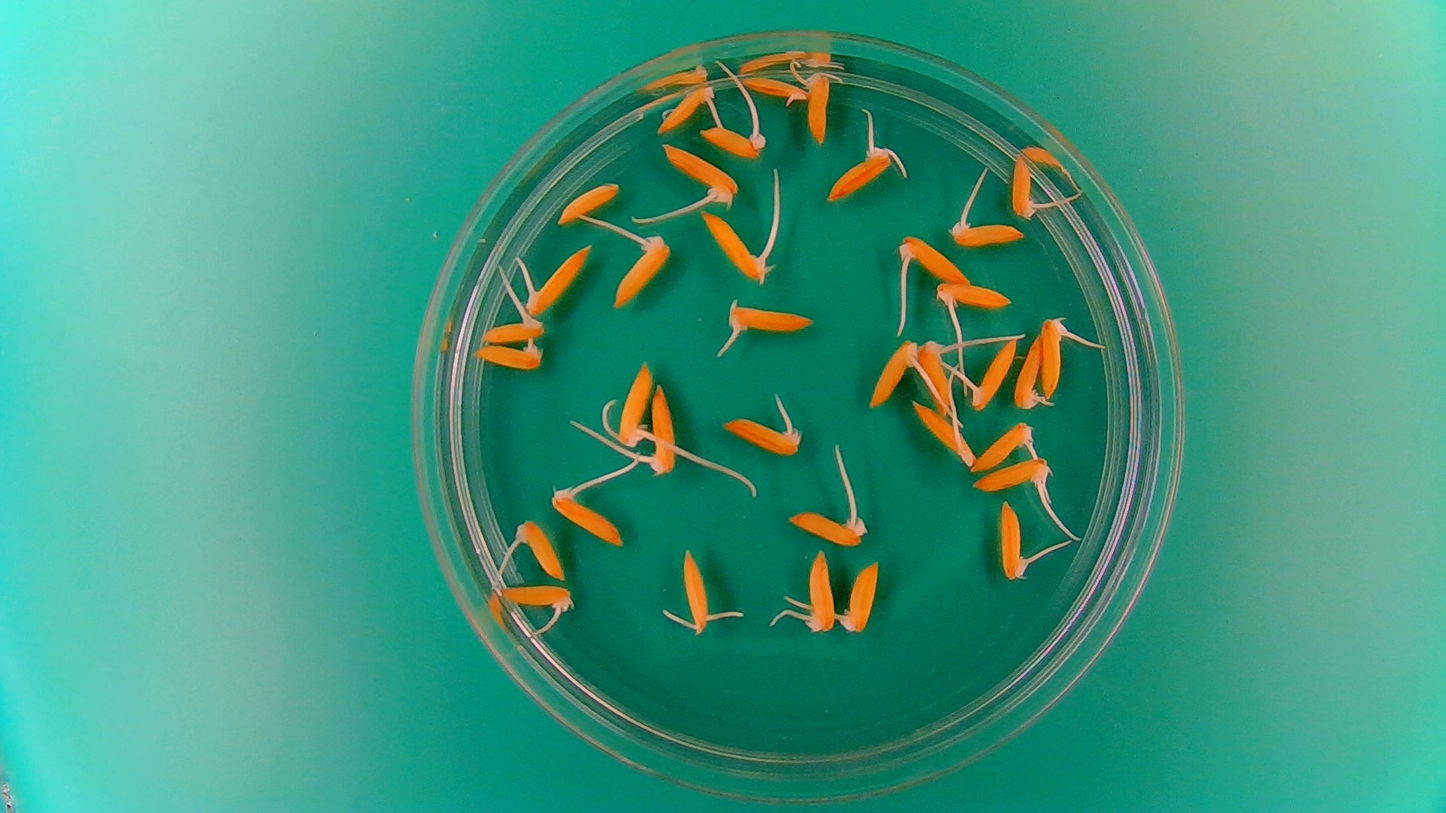no: (554, 178, 621, 228)
yes: (699, 209, 775, 285), (515, 242, 592, 315), (548, 479, 626, 547), (658, 142, 738, 208), (611, 227, 672, 309), (718, 296, 818, 344), (972, 324, 1023, 413), (894, 230, 974, 284), (909, 399, 973, 465), (868, 337, 923, 410), (610, 355, 654, 446), (823, 147, 892, 204), (837, 558, 886, 638), (508, 516, 567, 579), (969, 418, 1036, 473), (655, 81, 721, 136), (645, 380, 682, 477), (718, 416, 805, 457), (997, 497, 1036, 583), (973, 455, 1052, 496), (799, 547, 836, 634), (679, 547, 715, 632), (917, 339, 955, 419), (932, 279, 1013, 316), (783, 510, 866, 546), (477, 300, 545, 343), (1036, 315, 1068, 400), (950, 216, 1029, 250), (498, 582, 573, 615), (472, 340, 545, 373), (1013, 334, 1045, 409), (739, 72, 807, 107), (804, 65, 834, 143), (697, 127, 768, 158), (1008, 156, 1039, 224)
